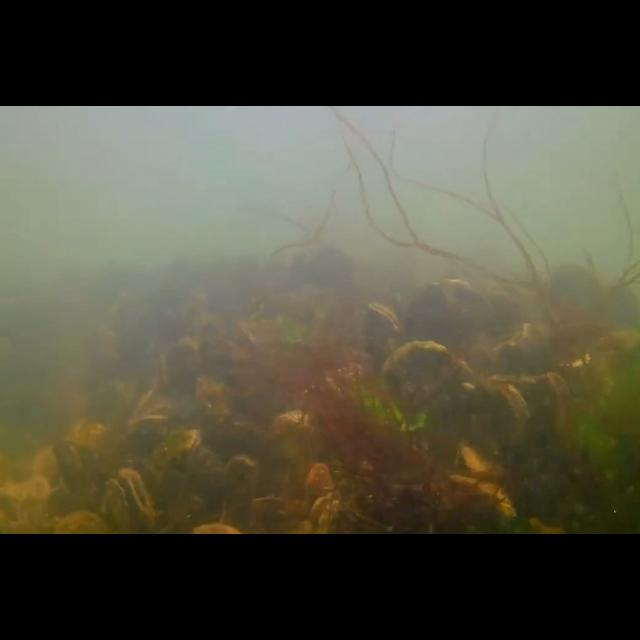Oyster-Closed: (380, 340, 474, 400), (491, 372, 572, 428), (461, 381, 532, 435), (448, 472, 518, 520), (220, 453, 262, 521), (134, 350, 168, 426), (270, 409, 314, 455), (193, 376, 235, 424), (460, 445, 514, 477)
Oyster-Open: (98, 468, 154, 534), (149, 428, 203, 477), (364, 303, 402, 371), (125, 396, 177, 432), (310, 496, 342, 534)
